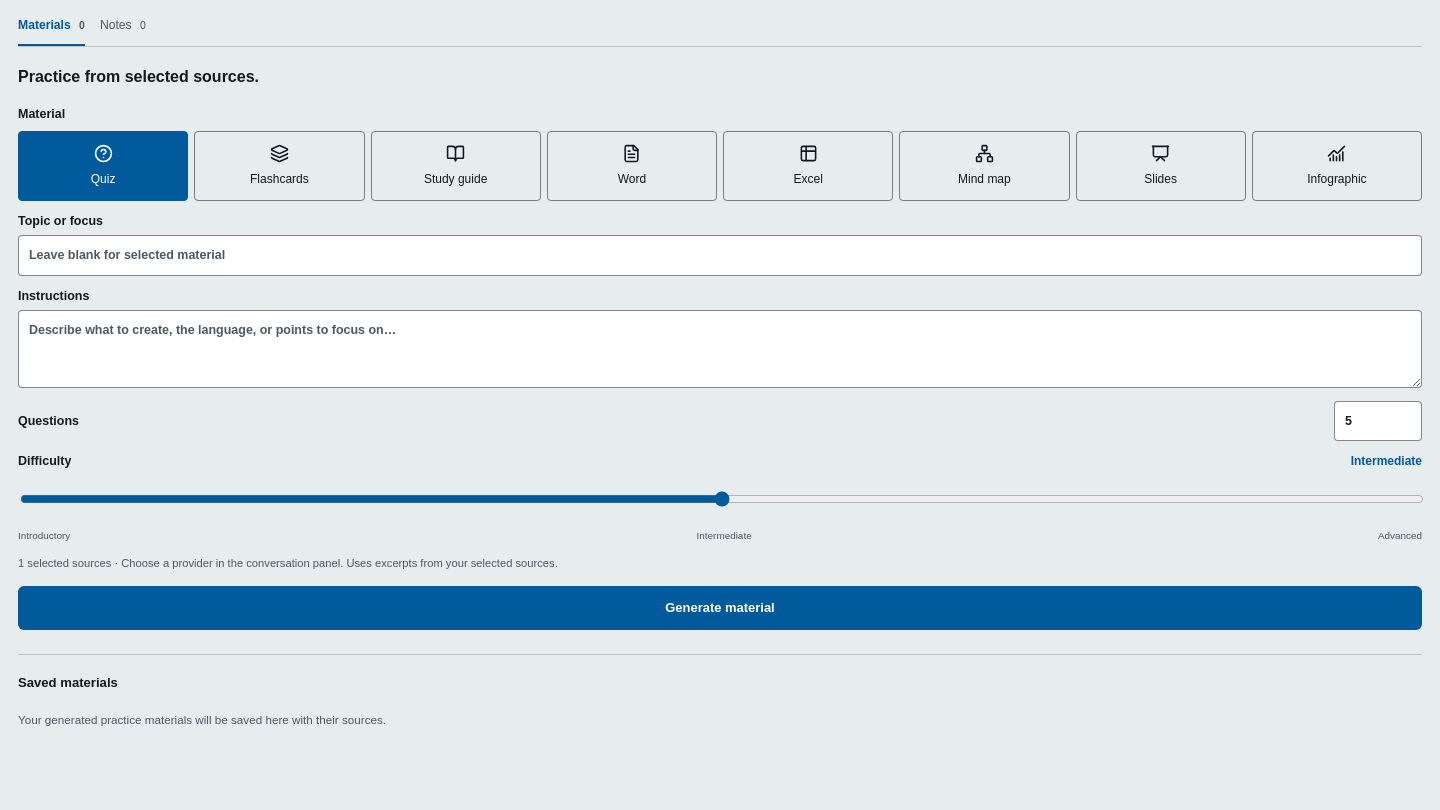
Study safety and controls › submits Quiz and the selected slider difficulty only on generation
Click the button "Quiz" at {"x": 103, "y": 166}, box x1=18 y1=131 x2=188 y2=201
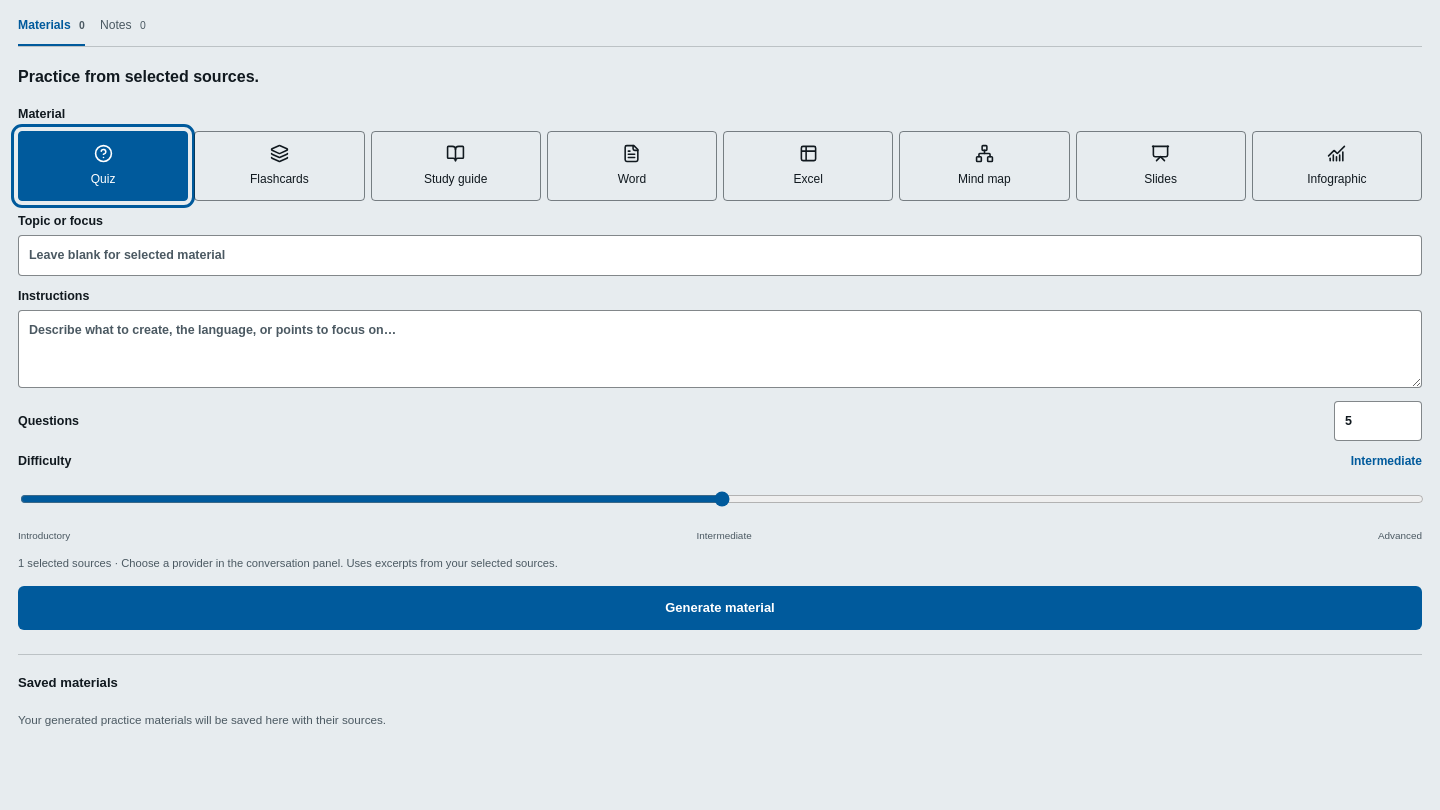
Set the slider labelled "Difficulty" to "0" at {"x": 28, "y": 499}, box x1=20 y1=477 x2=1424 y2=521
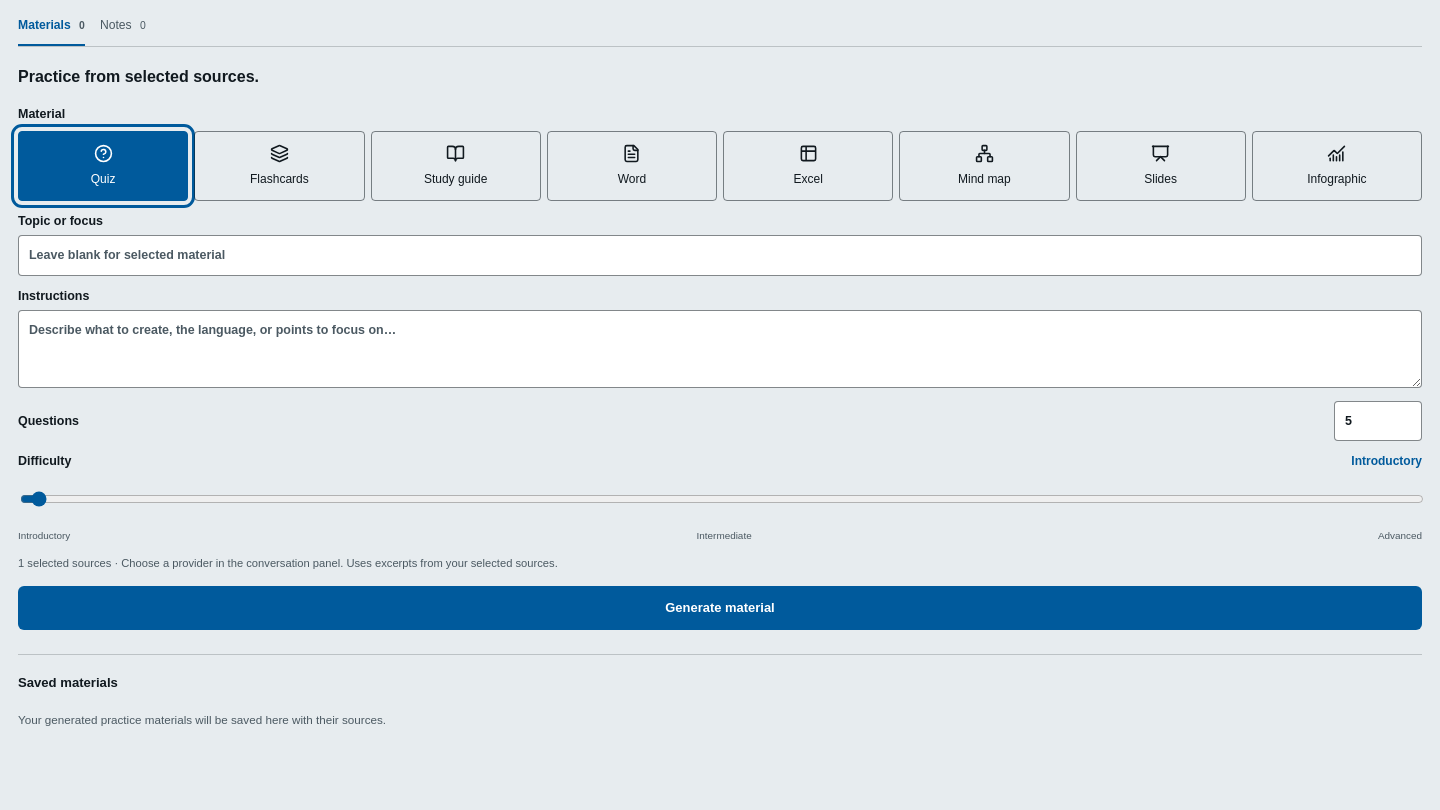
Result: the slider labelled "Difficulty" has attribute aria-valuetext="Introductory" at x1=20 y1=477 x2=1424 y2=521
Click the button "Generate material" at {"x": 720, "y": 608}, box x1=18 y1=586 x2=1422 y2=630
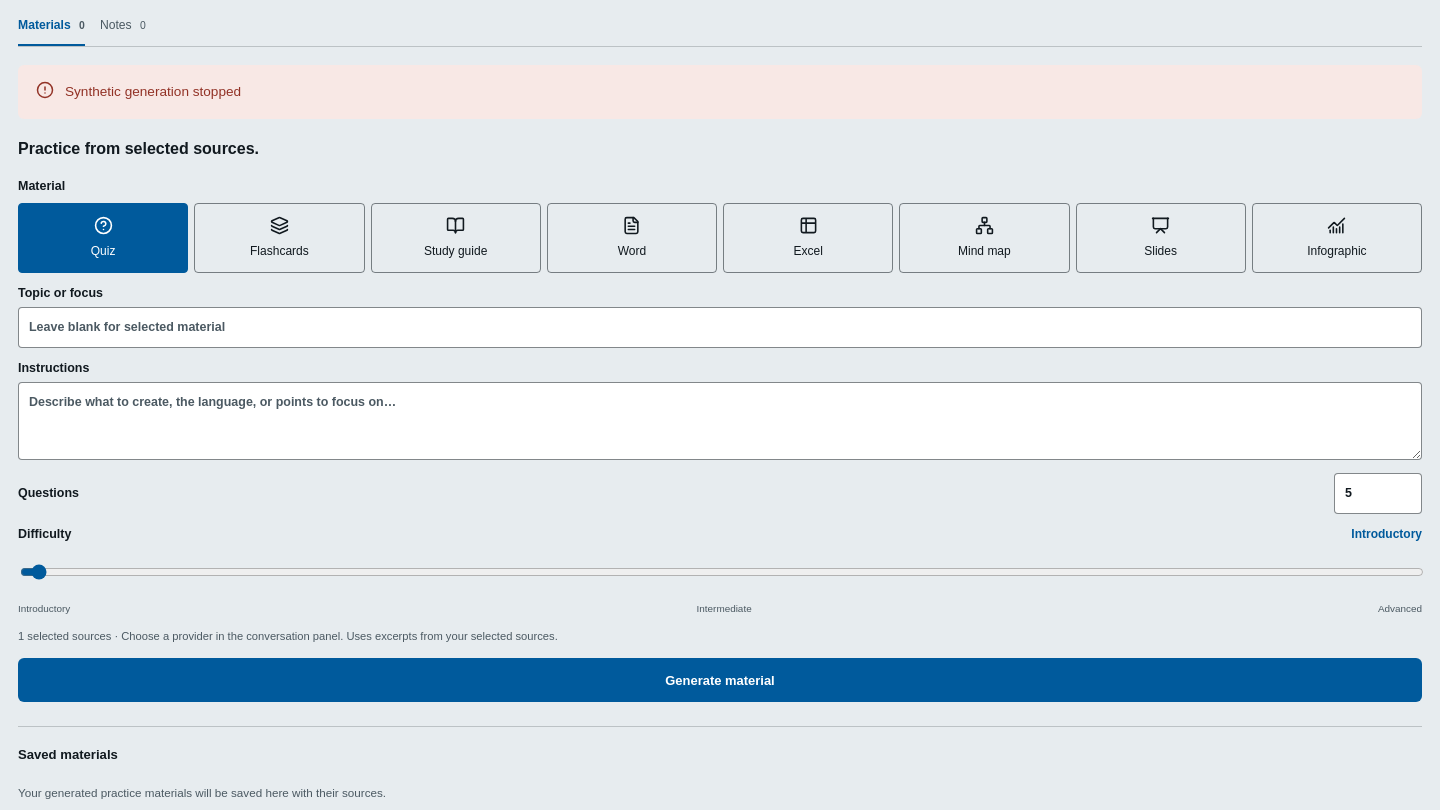
Result: the text "Synthetic generation stopped" is shown at x1=65 y1=81 x2=241 y2=103
